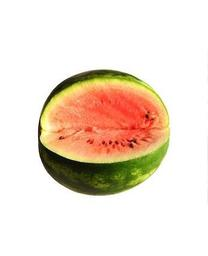watermelon: (37, 68, 172, 198)
